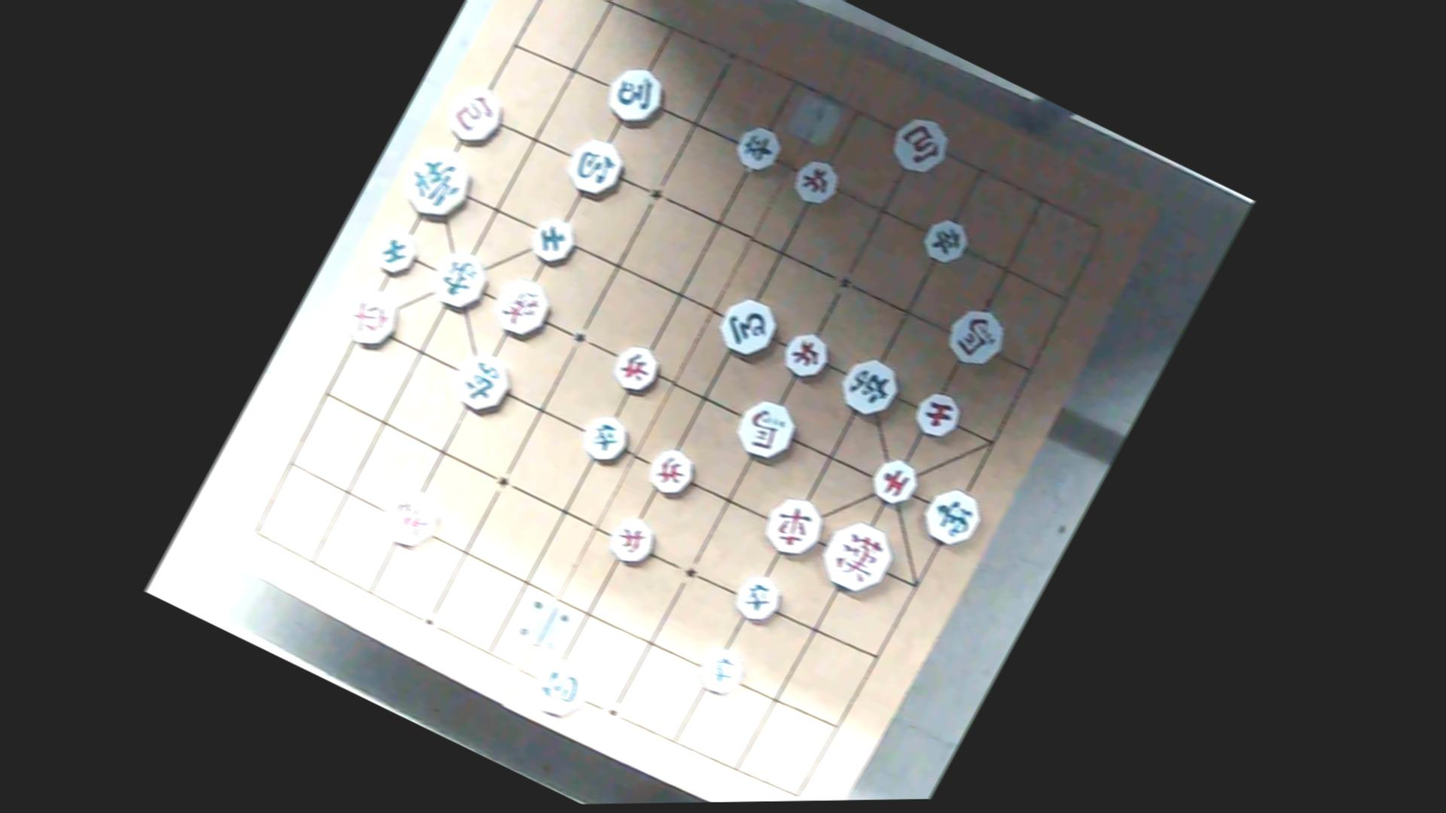cha_green: (447, 346, 519, 419), (832, 351, 905, 423)
cha_red: (755, 492, 828, 562), (335, 283, 408, 353)
jol_green: (728, 117, 790, 180), (726, 567, 788, 626), (913, 211, 975, 268), (574, 410, 633, 467), (691, 646, 748, 700)
jol_red: (600, 507, 662, 571), (602, 339, 667, 399), (782, 153, 846, 213), (641, 440, 701, 498), (775, 326, 833, 383)
ma_green: (709, 288, 786, 367), (596, 57, 672, 134)
ma_red: (725, 391, 804, 469), (936, 298, 1017, 373)
po_green: (518, 650, 598, 725), (557, 129, 631, 205)
po_red: (884, 106, 959, 183), (435, 78, 510, 148)
sa_green: (519, 209, 585, 273), (366, 221, 424, 279)
sa_red: (907, 384, 969, 442), (866, 452, 923, 507)
sang_green: (912, 477, 988, 553), (423, 246, 493, 312)
sang_red: (371, 479, 450, 556), (484, 268, 559, 343)
wang_green: (391, 139, 480, 227)
wang_red: (813, 516, 901, 598)
